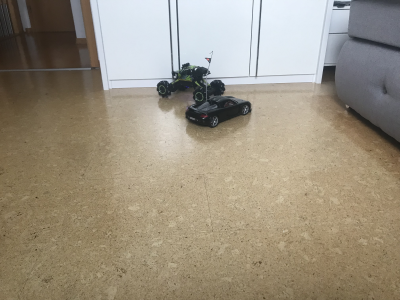remote control car: (155, 60, 226, 103)
